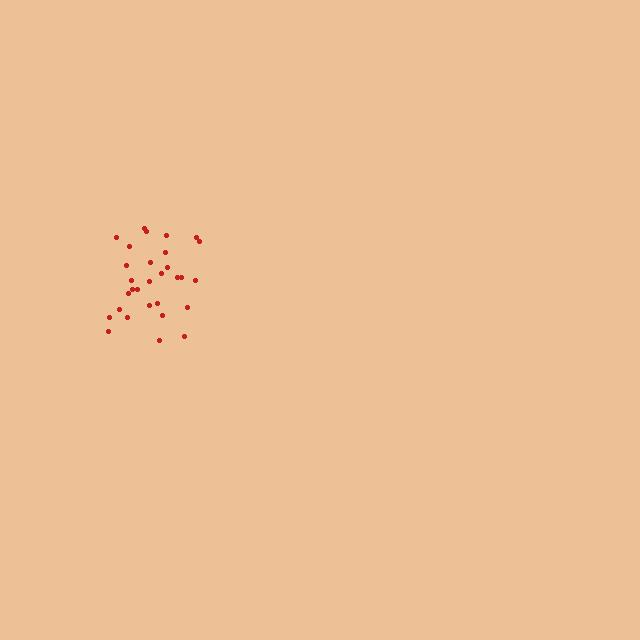abrasion: (106, 223, 199, 340)
